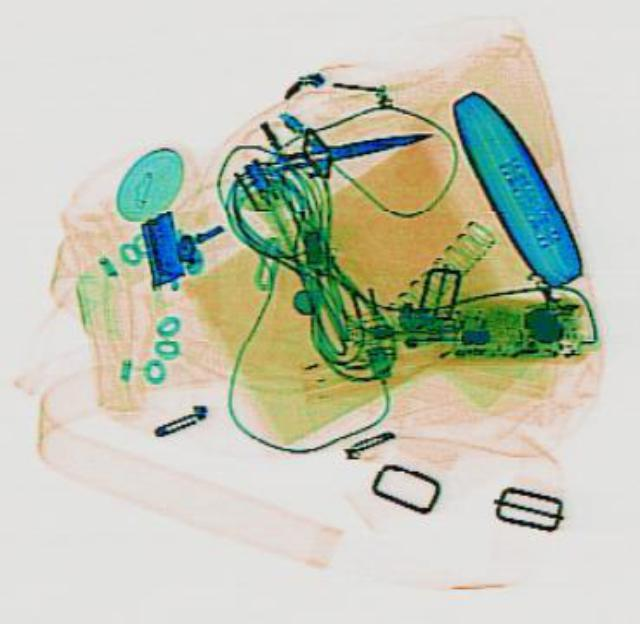Knife: (260, 102, 438, 185)
